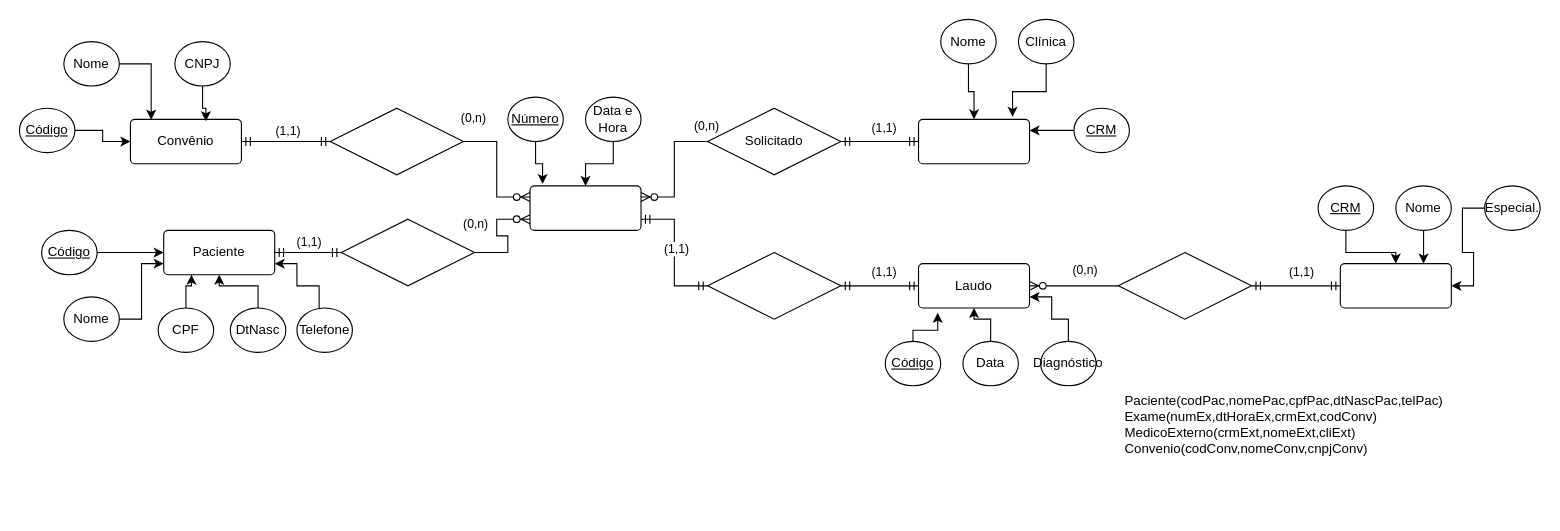
This 1560x531 diagram has some shape labels left out. The shapes that lost their labels are listed below. From the top down, each one's centre as x and y in pixels, then its label:
At [396,141]: "Utilizado".
At [973,141]: "Médico Externo".
At [585,207]: "Exame".
At [407,252]: "Pertence".
At [774,285]: "Gerar".
At [1184,285]: "Feito".
At [1395,285]: "Médico Interno".
